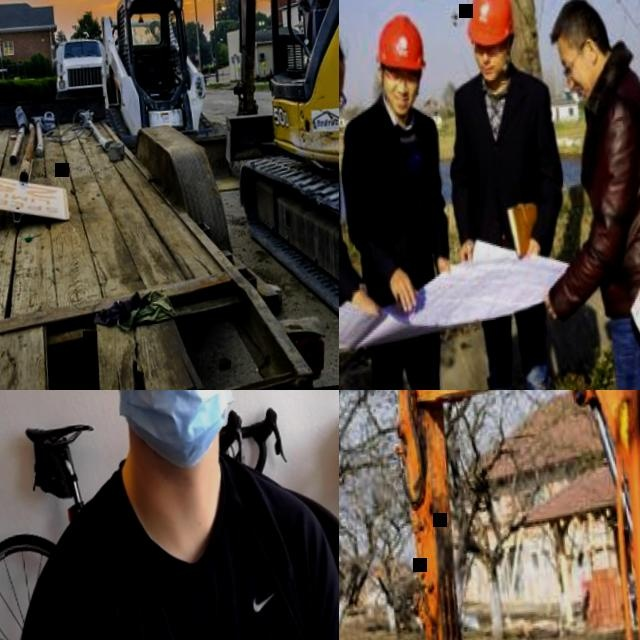Hardhat: (371, 13, 429, 78), (463, 0, 518, 50)
Mask: (104, 390, 244, 480)
NO-Hardhat: (545, 0, 602, 41)
NO-Mask: (571, 59, 600, 103), (385, 88, 415, 120), (479, 58, 509, 86)
NO-Safety Vest: (49, 456, 316, 640), (458, 79, 554, 252), (356, 108, 445, 290), (579, 84, 640, 308)
Person: (0, 390, 339, 640), (426, 0, 596, 390), (339, 8, 478, 390), (513, 0, 640, 390), (339, 20, 391, 390)
machinery: (339, 390, 640, 640), (183, 0, 339, 363), (94, 0, 254, 204), (51, 34, 111, 104)
